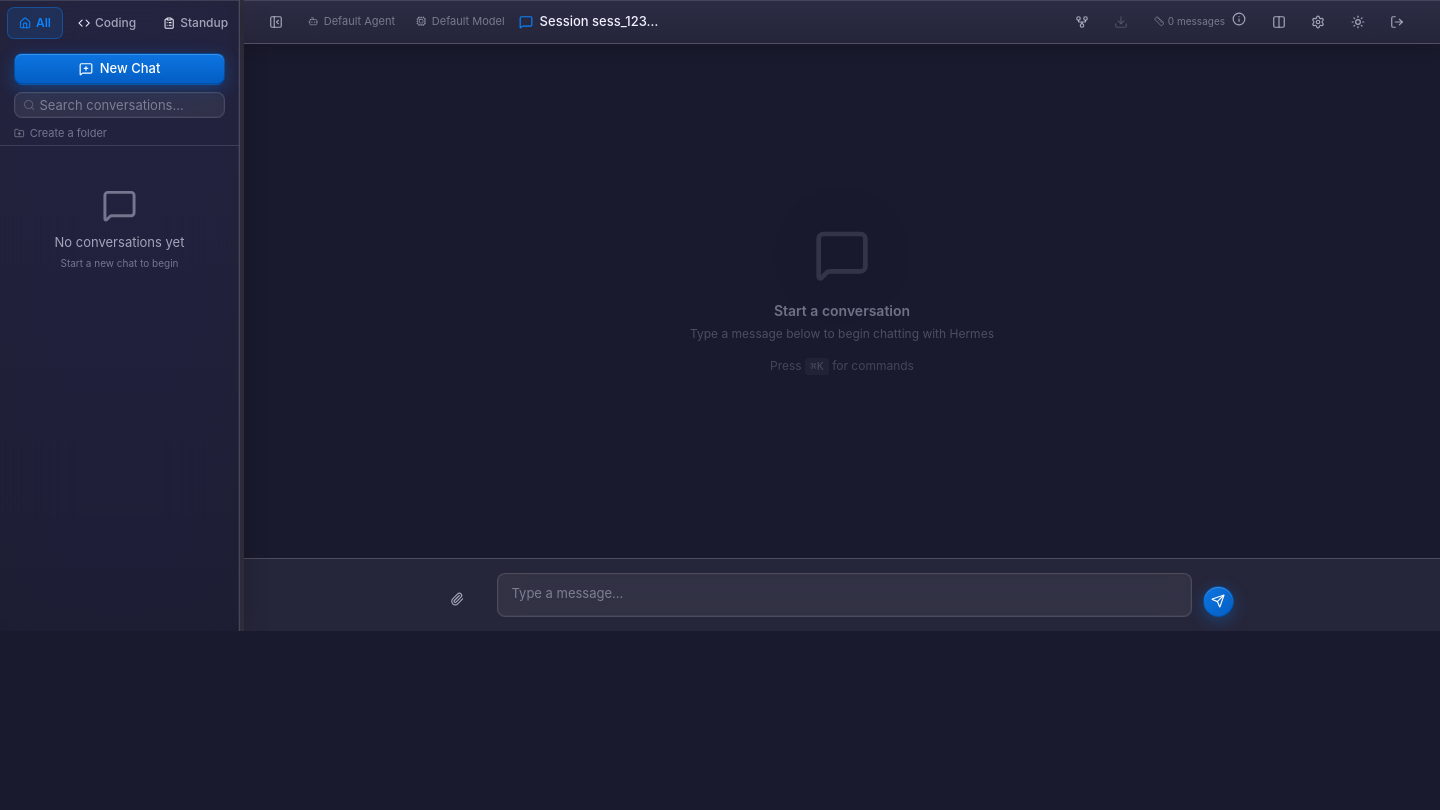
ChatPage › closes fork dialog when cancel is clicked
Click the button titled "Fork session" at [1093, 22], box [1075,4,1111,40]
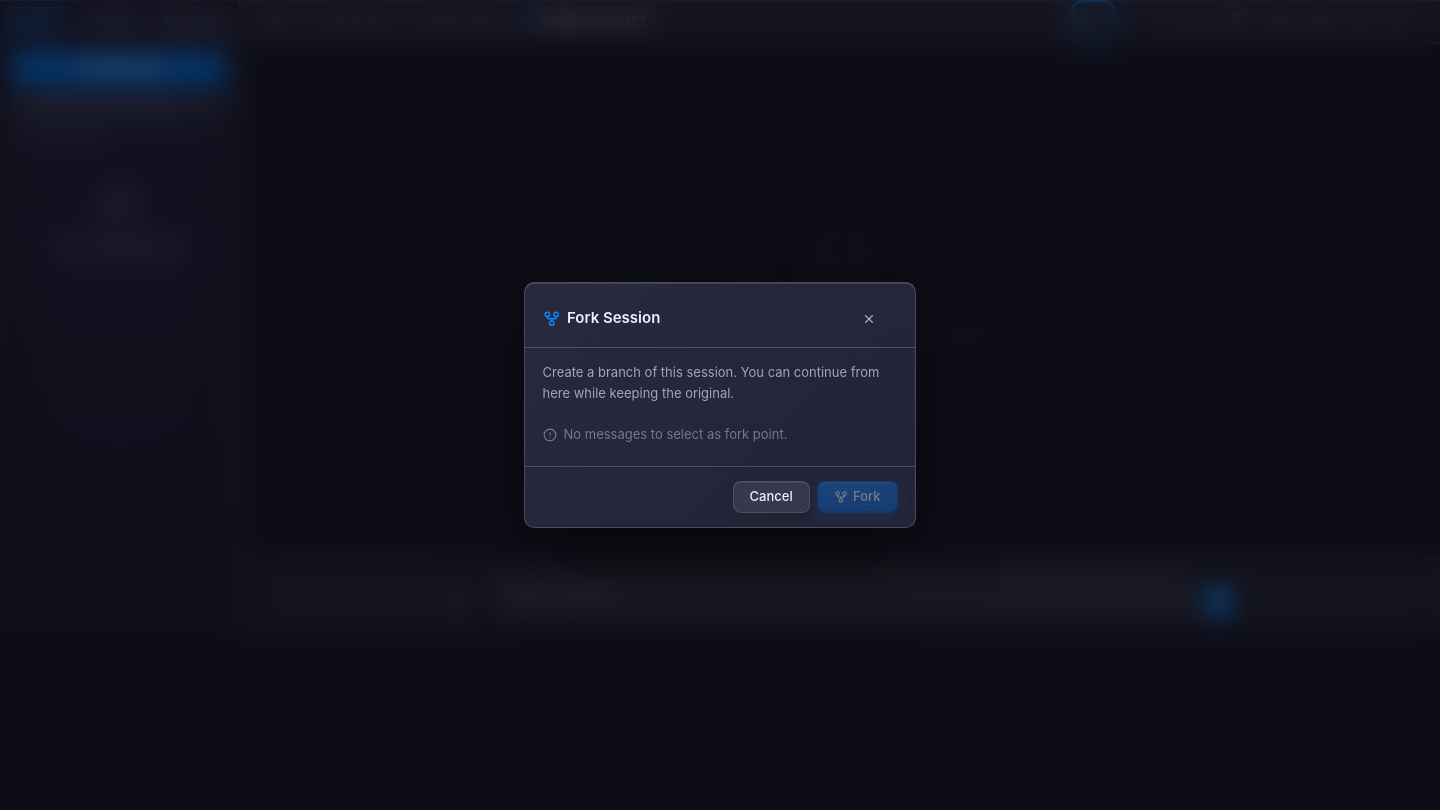
Expected: the heading "Fork Session" is shown, [567,307,660,330]
Click the button "Cancel" at [771, 497], box [732,481,810,513]
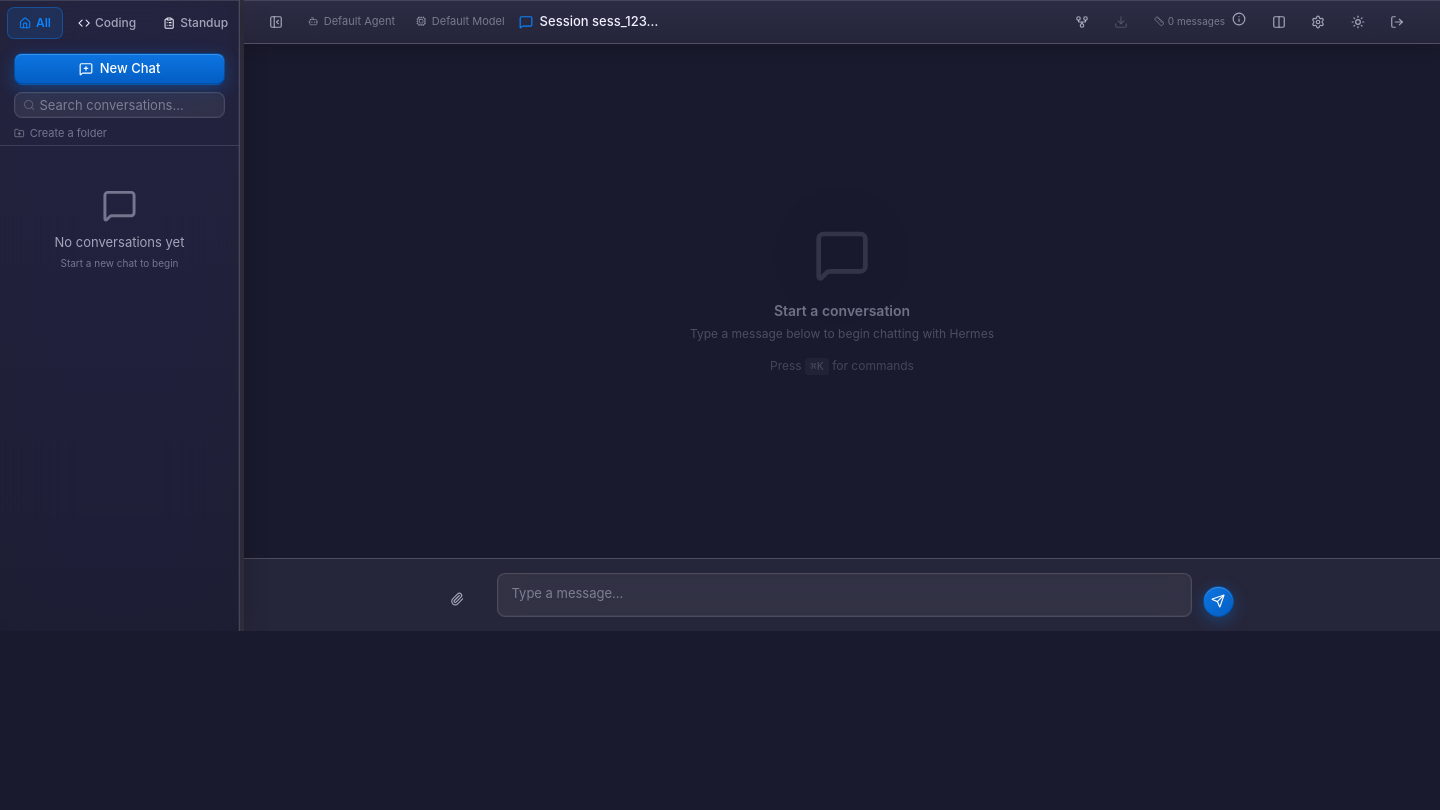
Expected: the heading "Fork Session" is gone
